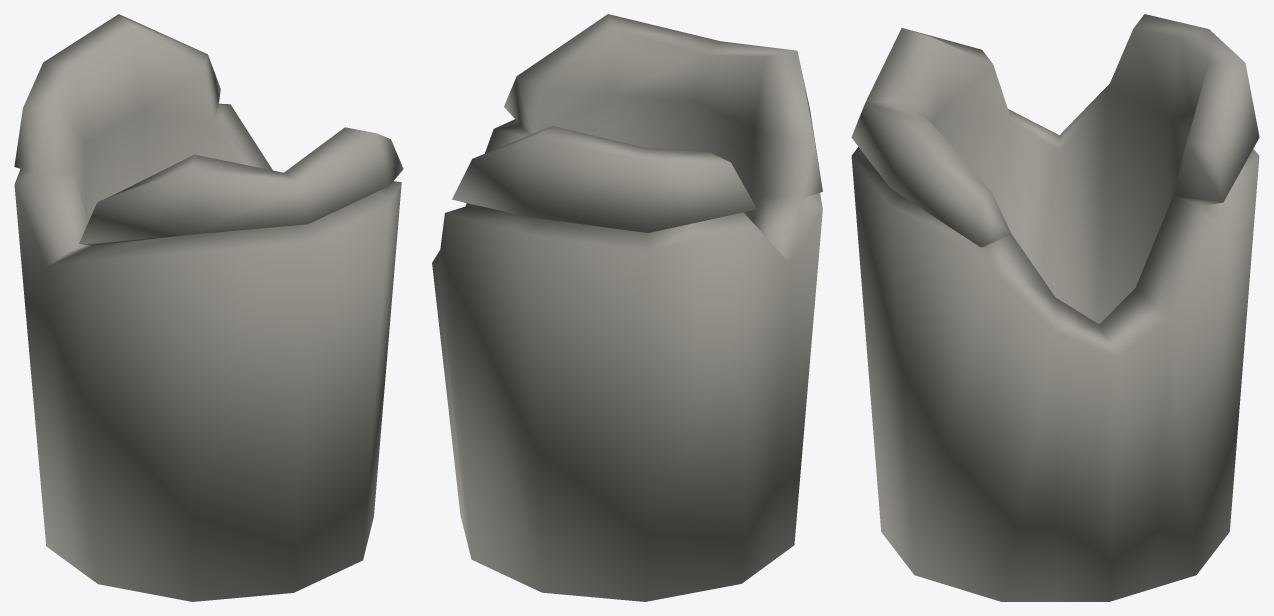
Rendered from rpgpp_av_vase_01b.gltf.
3 renders of one model, left to right at view 1: azimuth 30°, elevation 25°; view 2: azimuth 150°, elevation 25°; view 3: azimuth 270°, elevation 25°, orthographic. The views are drawn at different scales.
Parts seen in each view (by area): view 1: rpgpp_av_vase_01b; view 2: rpgpp_av_vase_01b; view 3: rpgpp_av_vase_01b.
Part boxes in pixels (bbox=[...]): rpgpp_av_vase_01b: bbox=[14, 14, 403, 601]; rpgpp_av_vase_01b: bbox=[432, 14, 822, 601]; rpgpp_av_vase_01b: bbox=[851, 14, 1259, 601].
Bounding box in the file's own units: 0.00374 × 0.00499 × 0.00393.
1 material, 1 textured.
